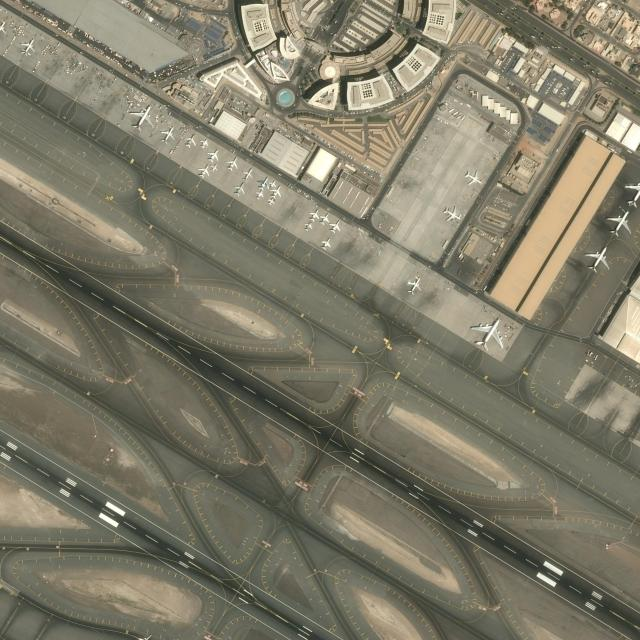1: (623, 178, 640, 206), (1, 19, 8, 35)
aircraft: (469, 318, 505, 350), (128, 104, 154, 132), (606, 210, 634, 236), (584, 247, 611, 273), (16, 36, 38, 56), (157, 125, 177, 144), (464, 169, 484, 185), (405, 277, 423, 294), (443, 206, 462, 222), (183, 132, 197, 150), (240, 166, 253, 182), (207, 148, 220, 162), (197, 164, 210, 178), (233, 182, 246, 196), (226, 156, 238, 171), (270, 185, 284, 197), (318, 212, 330, 225), (329, 220, 341, 233), (197, 137, 209, 149), (307, 208, 319, 220), (320, 237, 331, 250), (258, 176, 269, 188), (254, 188, 264, 200), (268, 179, 279, 188), (209, 162, 218, 172), (267, 196, 276, 206), (304, 221, 312, 232)
